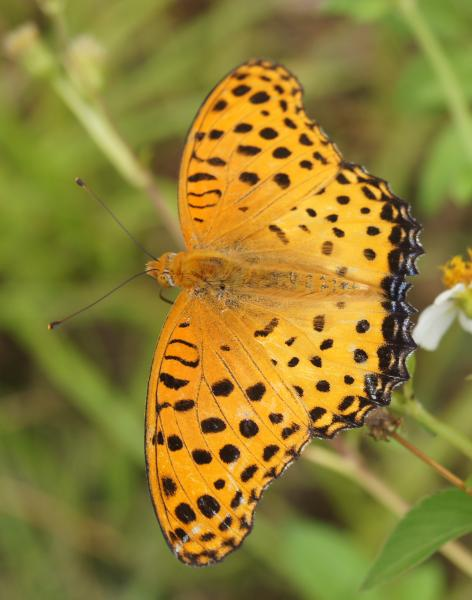Argyreus hyperbius: (41, 51, 430, 564)
butterfly: (43, 53, 432, 566)
